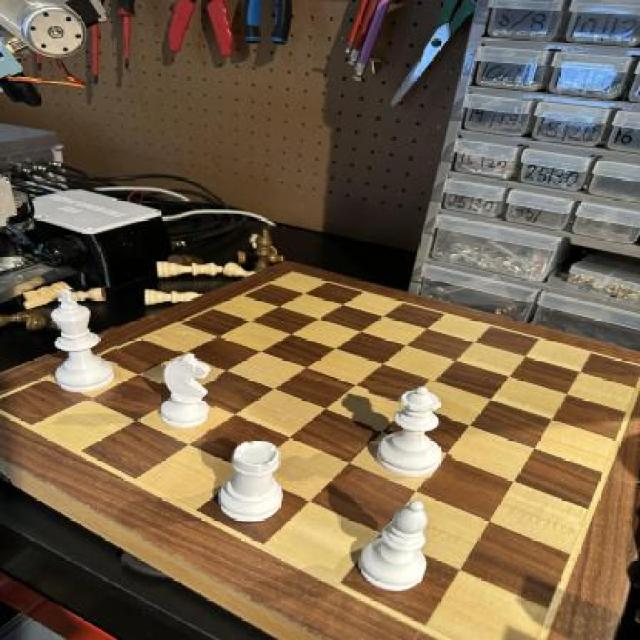black-rook: (357, 498, 433, 598)
white-bishop: (46, 289, 120, 402)
white-king: (157, 351, 219, 432)
white-pawn: (371, 380, 452, 480)
white-queen: (217, 437, 291, 525)
